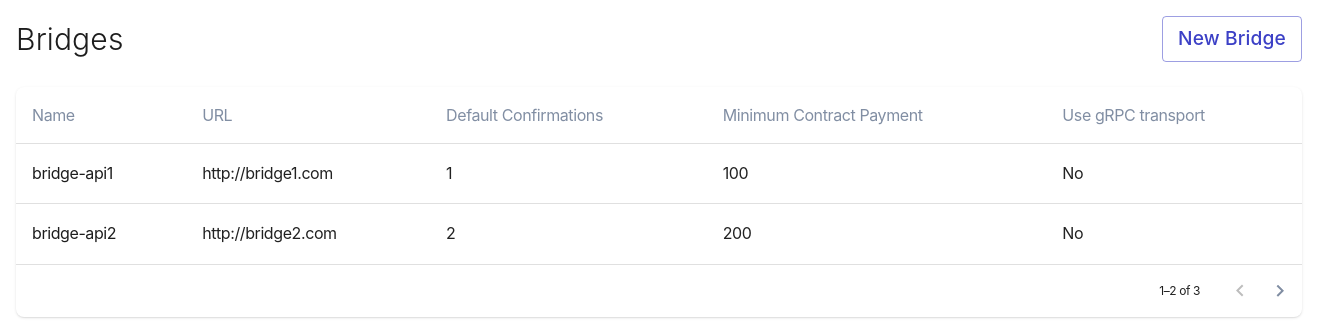
Test: BridgesScreen › can page through the list of bridges
Expected: the text "bridge-api1" is shown, [32,162,113,185]
Expected: the text "bridge-api2" is shown, [32,222,116,246]
Click the button named "next-page" at (1280, 291), box [1260,271,1300,311]
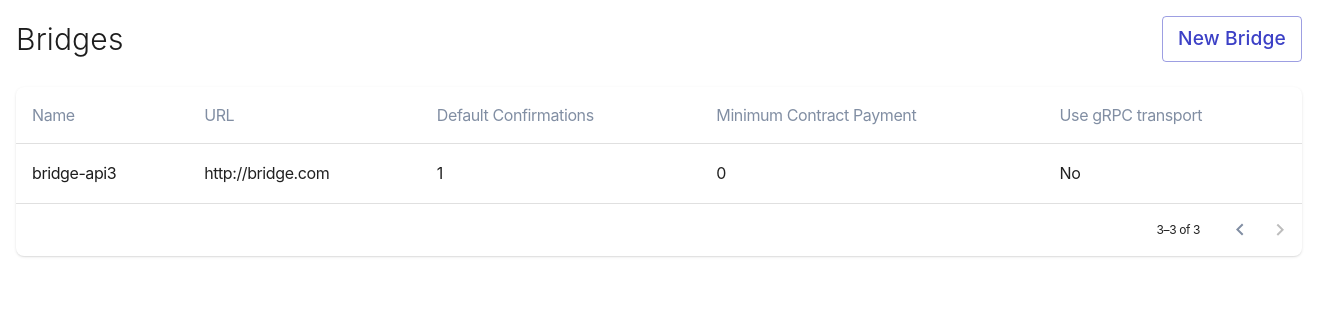
Expected: the text "bridge-api3" is shown, [32,162,116,185]
Expected: the text "3–3 of 3" is shown, [1157,220,1200,241]
Expected: the button named "next-page" is disabled, [1260,210,1300,250]
Click the button named "prev-page" at (1240, 230), box [1220,210,1260,250]
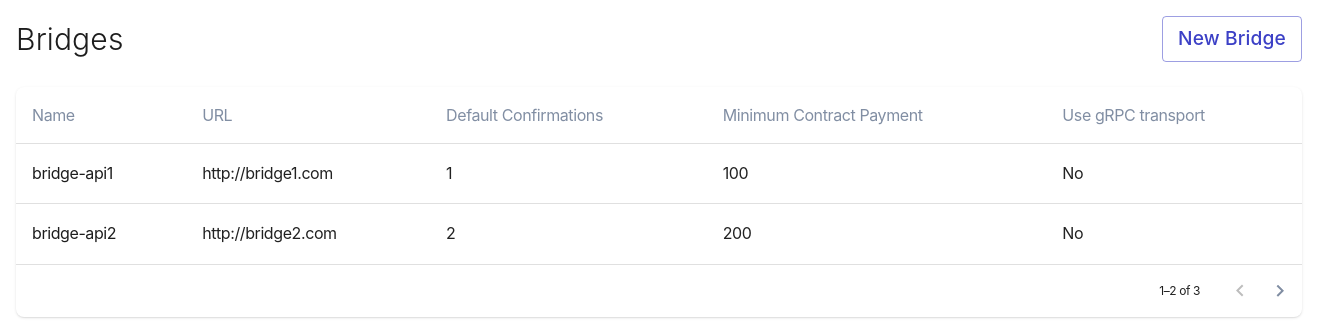
Expected: the text "bridge-api1" is shown, [32,162,113,185]
Expected: the text "bridge-api2" is shown, [32,222,116,246]
Expected: the text "1–2 of 3" is shown, [1159,280,1200,301]
